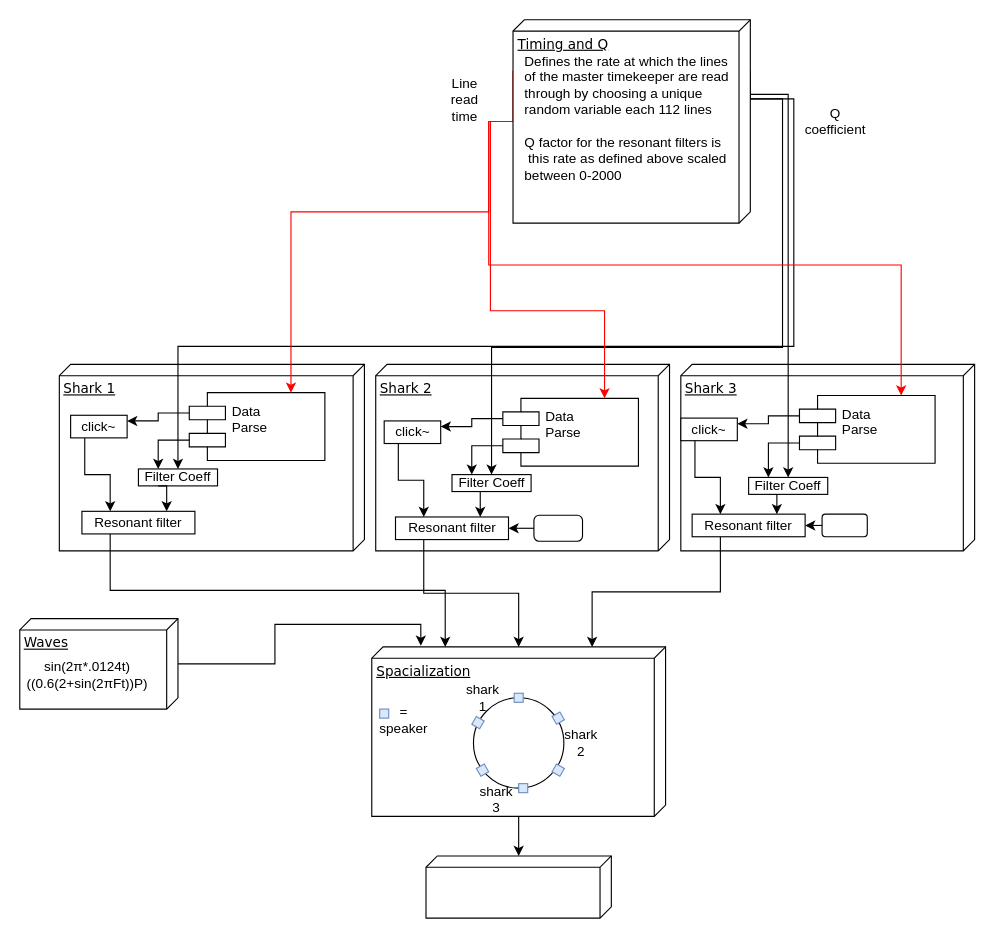
This 994x938 diagram has some shape labels left out. Each missing label, with the centre of its shape:
"cycle~" goes at point (558, 527).
"DAC" goes at point (518, 886).
"tri~" goes at point (844, 525).
